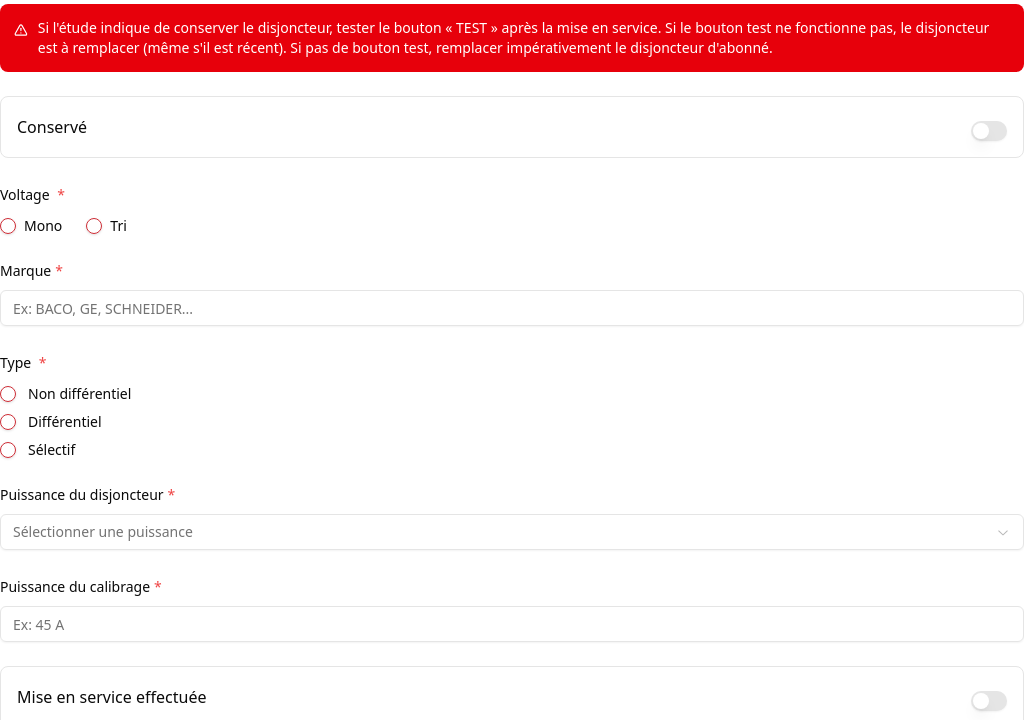
CircuitBreakerStep — test du bouton (DTA-49) › signale le remplacement et demande une explication si le bouton est HS
What coordinates should you click on to do the following:
click the switch in the row of "Conservé"
I would click on:
 (989, 131)
Its box is [971,121,1007,141].
(page scrolled)
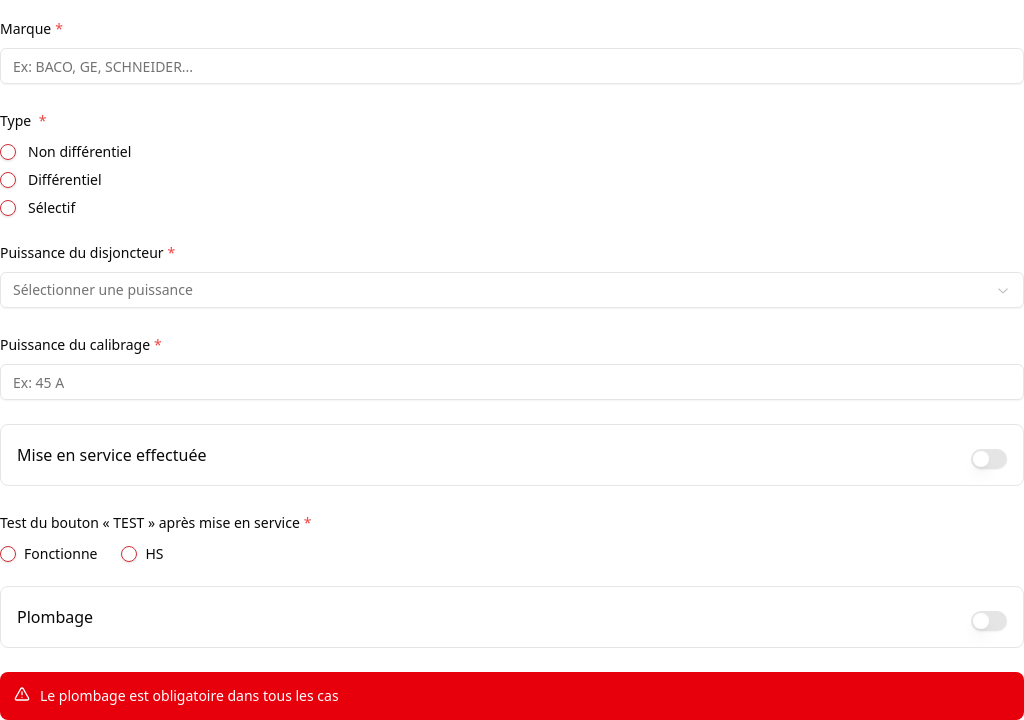
What coordinates should you click on to do the following:
click the radio button named "HS" next to "HS"
I would click on:
 (130, 554)
Its box is [122,546,138,562].
(page scrolled)
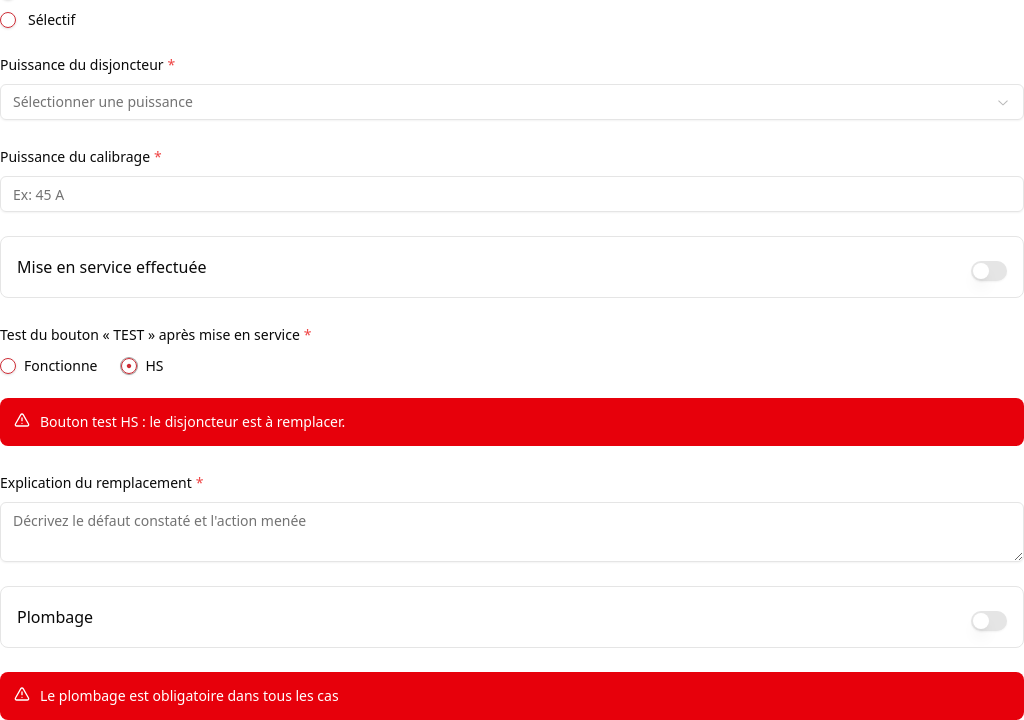
Now the text "Bouton test HS : le disjoncteur est à remplacer." is shown, box [40,412,345,432]
Now the text box labelled "Explication du remplacement*" is shown, box [0,502,1023,562]
